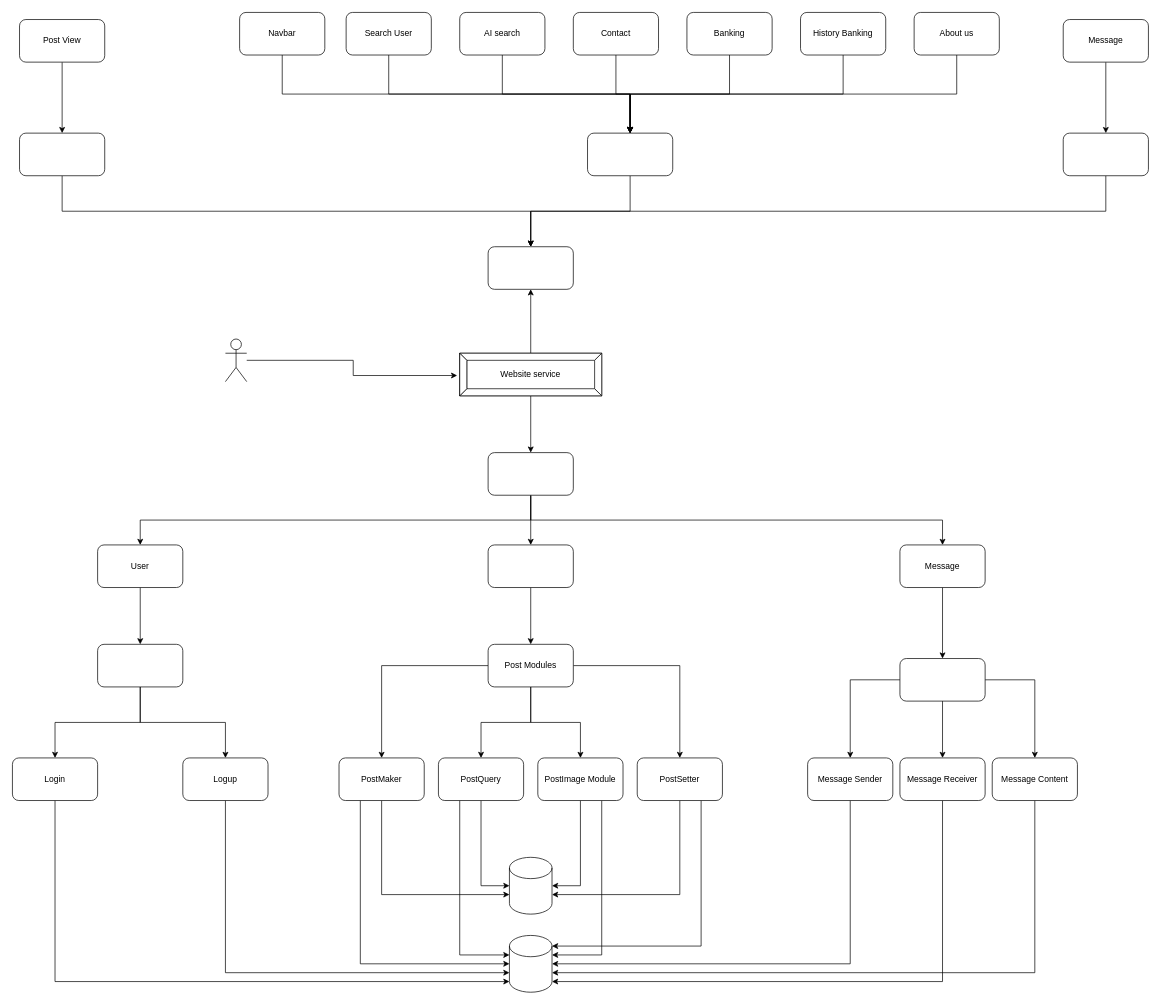
Image size: 1161x1005. Some labels were removed from this diagram. Each missing label, with the centre of its shape:
Back-end: the point at 530,473
Front-end: the point at 530,267
Home: the point at 62,154
ImageKit: the point at 530,885
Message Modules: the point at 942,679
Mongo DB: the point at 530,963
Page: the point at 630,154
Post: the point at 530,566
SubPage: the point at 1105,154
User Module (User define): the point at 236,360
UserWrapper: the point at 140,665
